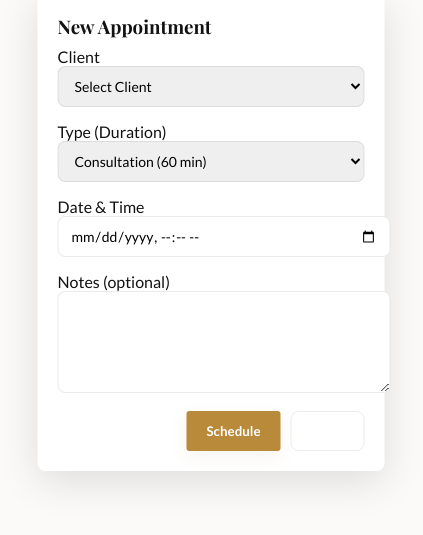
Test: CreateAppointment › shows error when appointment overlaps with existing one
Select "John Doe" in the dropdown labelled "Client" at (211, 86), box [58, 66, 364, 107]
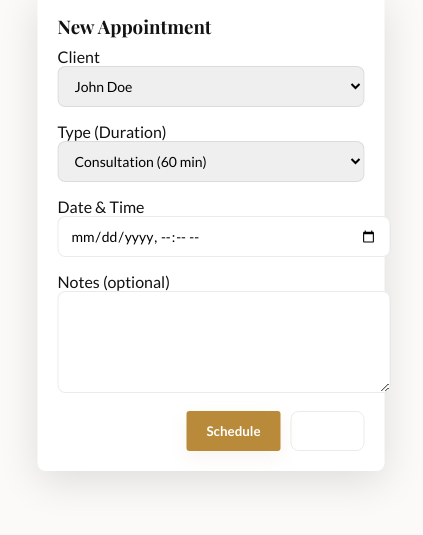
Type "2025-12-23T11:30" into the field labelled "Date & Time".
click(224, 236); type("2025-12-23T11:30")  # box [58, 216, 390, 257]
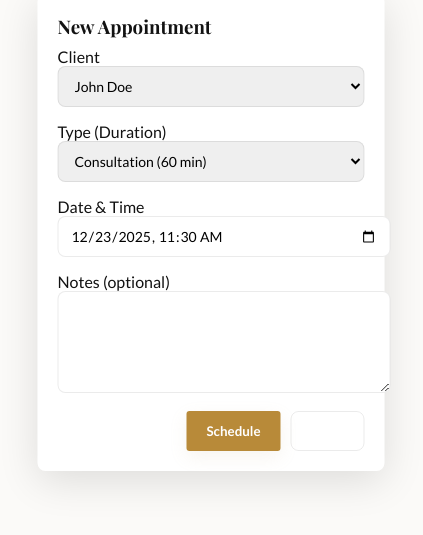
Click the button "Schedule".
click(234, 431)  # box [186, 411, 281, 451]
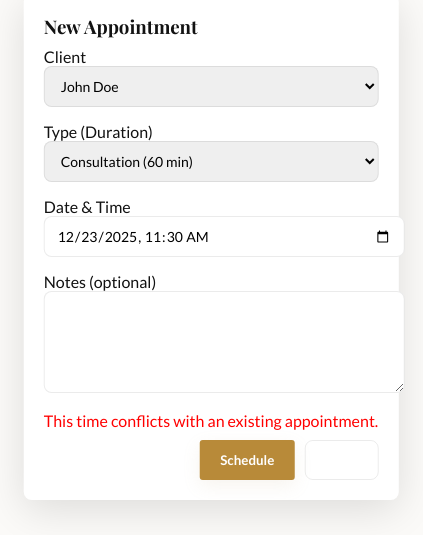
Expected: the text "This time conflicts with an existing appointment." is shown, [44, 411, 378, 430]
